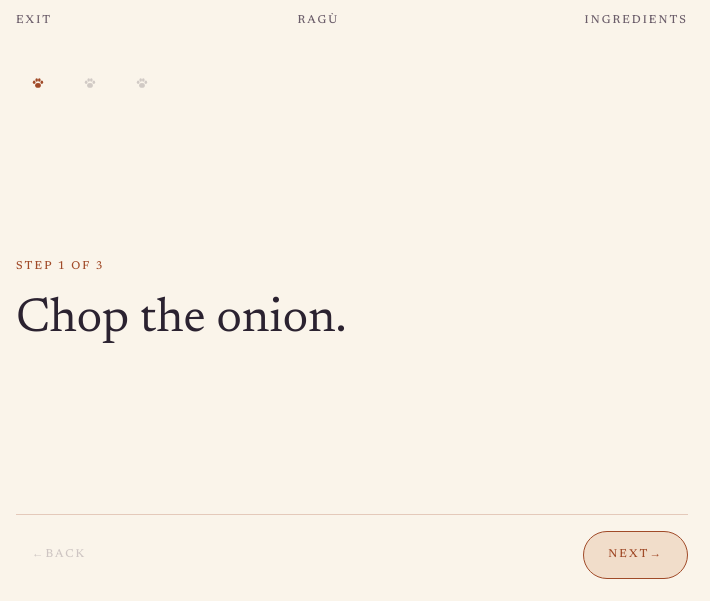
Test case: CookMode › shows a Done link on the last step
Click the button "Next →": (636, 555) [583,531,688,579]
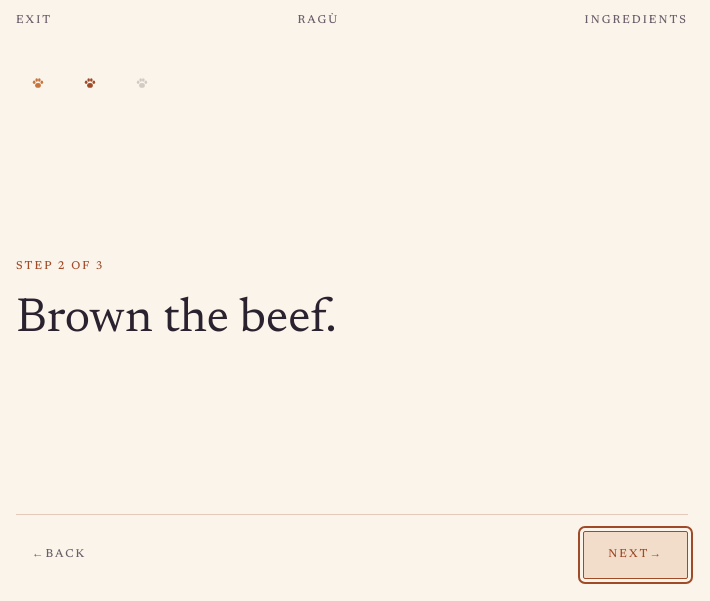
Click the button "Next →": (636, 555) [583,531,688,579]
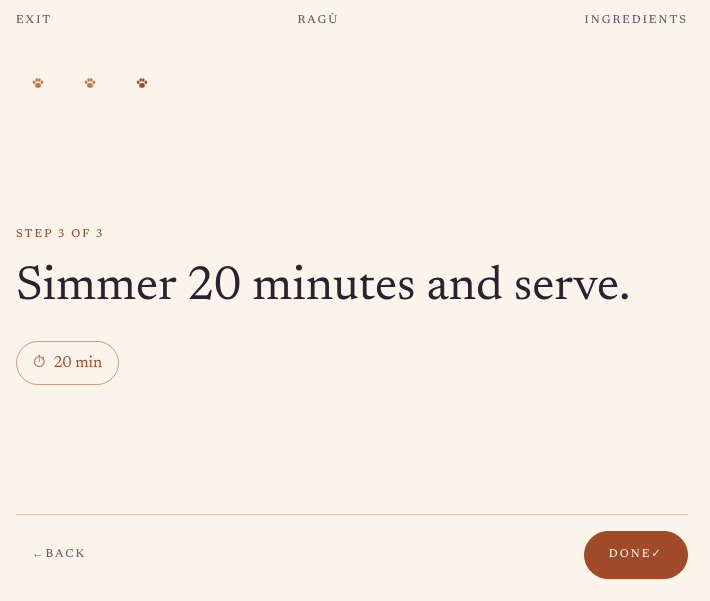
Result: the text "Step 3 of 3" is shown at [16,229,104,240]
